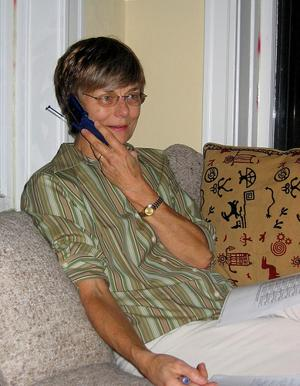person: (20, 37, 298, 384)
